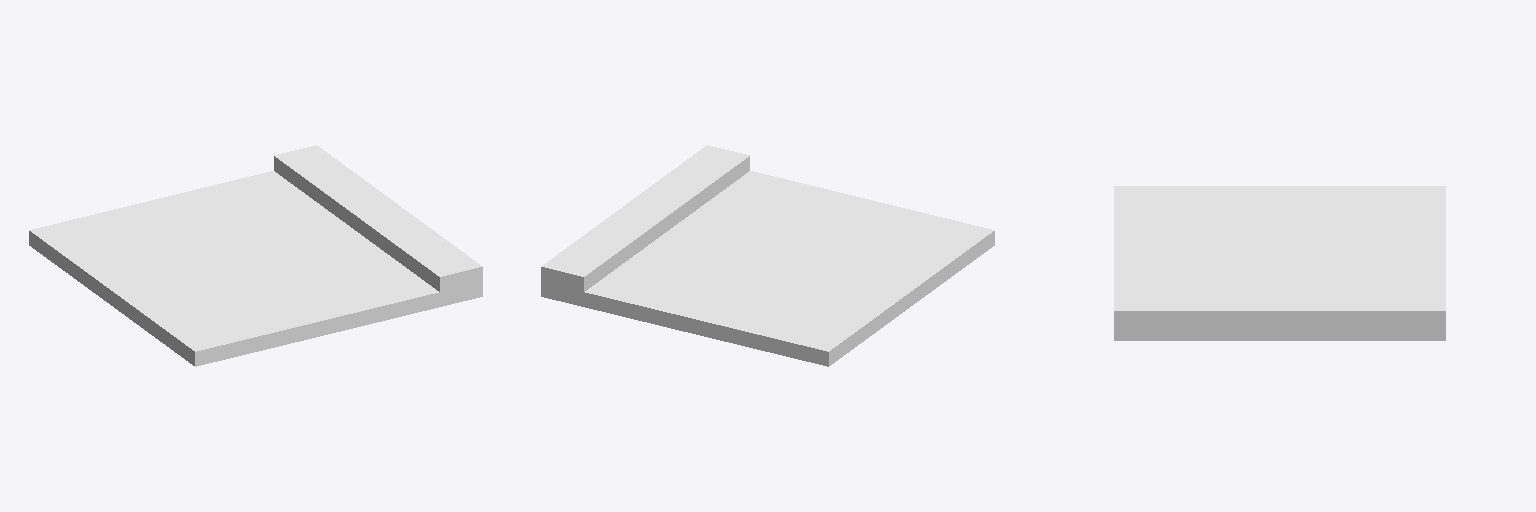
Rendered from Stenka1-6.obj.
3 renders of one model, left to right at view 1: azimuth 30°, elevation 25°; view 2: azimuth 150°, elevation 25°; view 3: azimuth 270°, elevation 25°, orthographic.
Visible parts, largest first — view 1: object 1; view 2: object 1; view 3: object 1.
Part boxes in pixels (x1,y1,x2,y2): object 1: (29, 145, 482, 366); object 1: (541, 145, 994, 366); object 1: (1114, 186, 1445, 340).
Bounding box in the file's own units: 2 × 0.2 × 2.